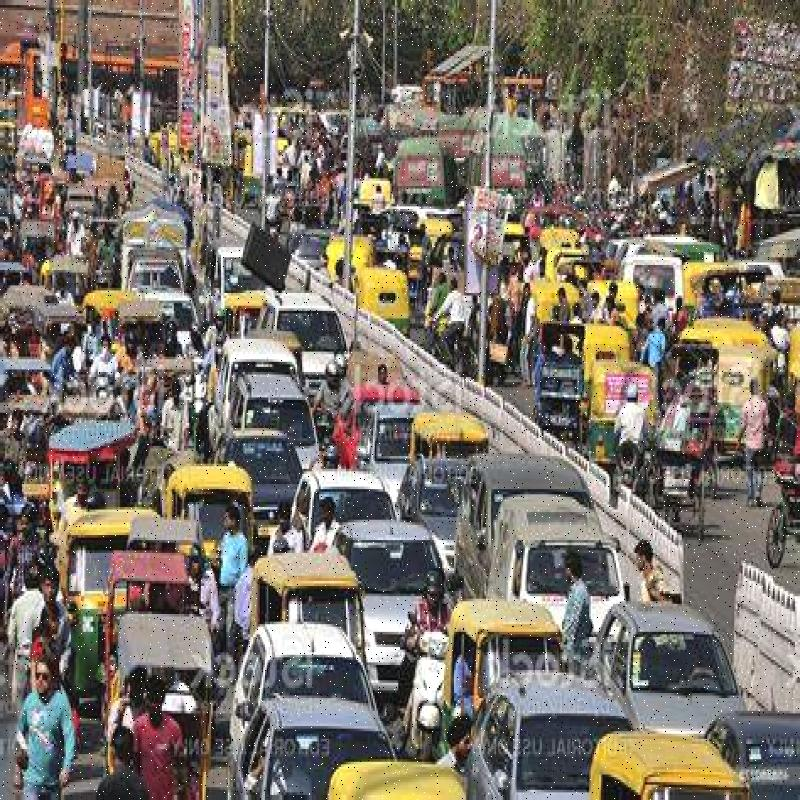car: (343, 502, 449, 678), (475, 677, 625, 800), (236, 598, 356, 741), (601, 608, 730, 741), (508, 522, 631, 639), (273, 696, 390, 800), (283, 472, 385, 580), (344, 396, 431, 522), (250, 369, 330, 485), (215, 338, 289, 449)
